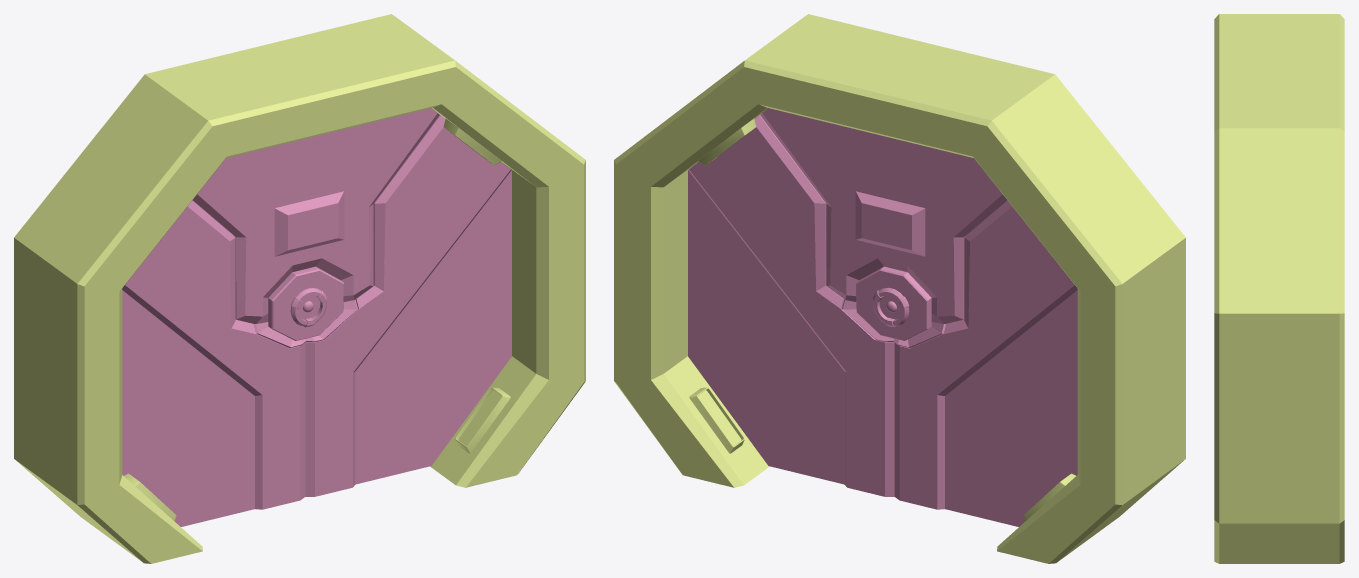
The model's file is Door_Openable.FBX.
3 renders of one model, left to right at view 1: azimuth 30°, elevation 25°; view 2: azimuth 150°, elevation 25°; view 3: azimuth 270°, elevation 25°, orthographic. The views are drawn at different scales.
Parts seen in each view (by area): view 1: Door_Frame, Object003, Object002, Object001; view 2: Door_Frame, Object003, Object002, Object001; view 3: Door_Frame.
Boxes of the visible parts, bbox=[...] form: Door_Frame: bbox=[14, 14, 585, 563]; Object003: bbox=[305, 114, 511, 496]; Object002: bbox=[122, 200, 305, 526]; Object001: bbox=[192, 108, 439, 347]; Door_Frame: bbox=[614, 14, 1185, 563]; Object003: bbox=[688, 114, 894, 496]; Object002: bbox=[894, 200, 1077, 526]; Object001: bbox=[760, 108, 1007, 347]; Door_Frame: bbox=[1214, 14, 1344, 563].
Bounding box in the file's own units: 3.29 × 2.64 × 0.7675.
